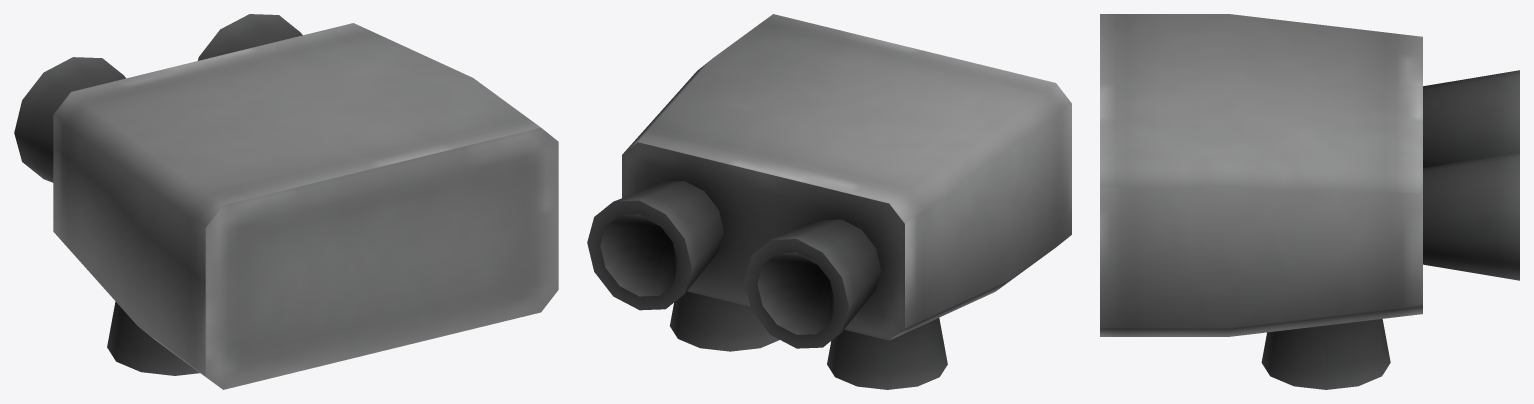
The model's file is octans_moe_srf_1_extended.obj.
The picture shows the model from 3 angles, left to right: view 1: azimuth 30°, elevation 25°; view 2: azimuth 150°, elevation 25°; view 3: azimuth 270°, elevation 25°; orthographic projection. The views are drawn at different scales.
Parts seen in each view (by area): view 1: mesh; view 2: mesh; view 3: mesh.
Boxes of the visible parts, box(x1,y1,x2,y2) form: mesh: box(14, 14, 558, 389); mesh: box(587, 14, 1071, 389); mesh: box(1100, 14, 1519, 389).
Bounding box in the file's own units: 0.15 × 0.1 × 0.1625.
1 material, 1 textured.
